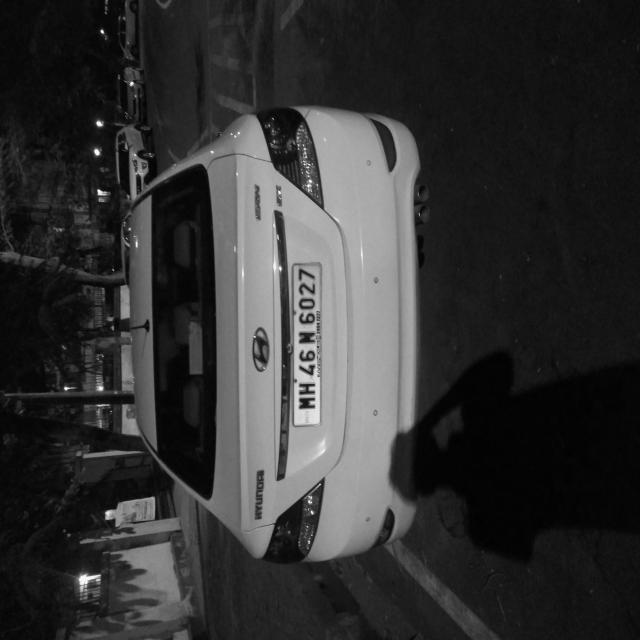car: (51, 164, 404, 613)
license-plate: (163, 392, 285, 429)
